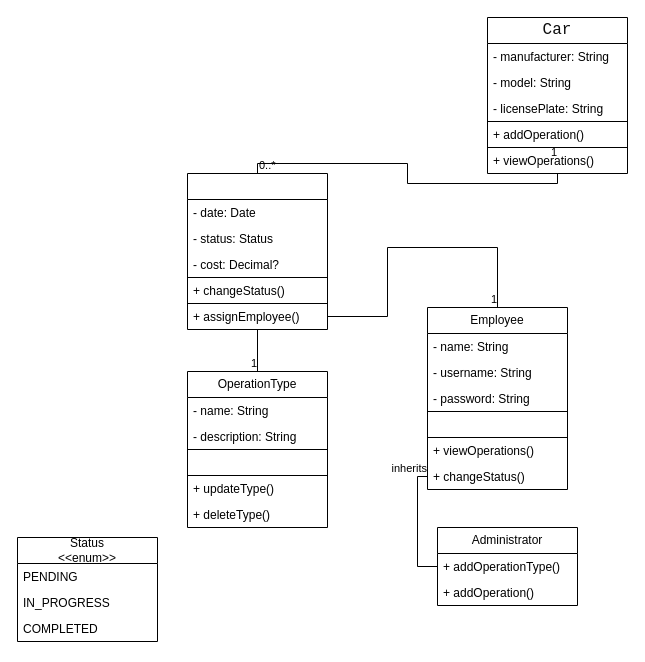
Some shapes in this 645 by 662 pixel diagram are drawn without their labels. Here are the shapes that lost their labels. From the top down, the centre of each, then its label:
At [497,424]: "+ login()".
At [257,462]: "+ addType()".
